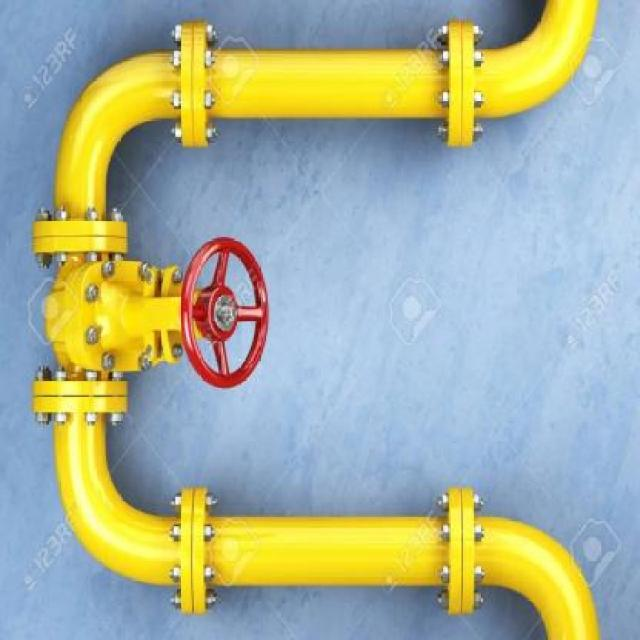gas: (55, 503, 597, 640), (48, 46, 570, 125), (51, 64, 122, 559)
